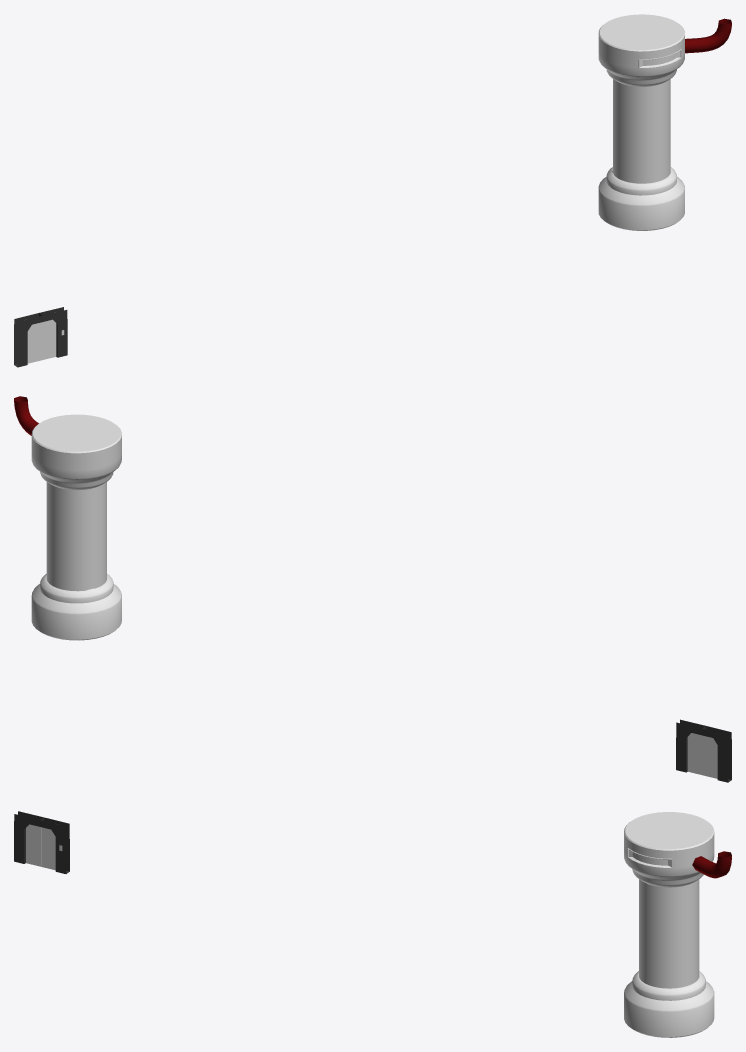
Rendered from Decoration2.fbx.
3 renders of one model, top to bottom at view 1: azimuth 30°, elevation 25°; view 2: azimuth 150°, elevation 25°; view 3: azimuth 330°, elevation 25°, orthographic. The views are drawn at different scales.
Visible parts, largest first — view 1: Cylinder.002, Cylinder.001, Cylinder, DoorFrame.001, NurbsPath.001, DoorFrame, Wall.012; view 2: Cylinder.002, Cylinder.001, Cylinder, DoorFrame.001, DoorFrame, Wall.012; view 3: Cylinder.002, Cylinder.001, Cylinder, DoorFrame, DoorFrame.001, NurbsPath.001, Wall.011, Wall.012.
Boxes of the visible parts, x1=… form: Cylinder.002: x1=613, y1=79, x2=670, y2=183; Cylinder.001: x1=598, y1=14, x2=684, y2=86; Cylinder: x1=598, y1=167, x2=684, y2=230; DoorFrame.001: x1=14, y1=313, x2=42, y2=367; NurbsPath.001: x1=685, y1=18, x2=731, y2=53; DoorFrame: x1=39, y1=307, x2=67, y2=357; Wall.012: x1=41, y1=319, x2=56, y2=360; Cylinder.002: x1=46, y1=482, x2=106, y2=591; Cylinder.001: x1=31, y1=414, x2=121, y2=490; Cylinder: x1=31, y1=574, x2=121, y2=640; DoorFrame.001: x1=702, y1=726, x2=731, y2=782; DoorFrame: x1=676, y1=719, x2=705, y2=772; Wall.012: x1=687, y1=733, x2=703, y2=775; Cylinder.002: x1=639, y1=879, x2=699, y2=988; Cylinder.001: x1=624, y1=812, x2=714, y2=887; Cylinder: x1=624, y1=971, x2=714, y2=1037; DoorFrame: x1=40, y1=817, x2=69, y2=873; DoorFrame.001: x1=14, y1=811, x2=43, y2=863; NurbsPath.001: x1=692, y1=851, x2=731, y2=878; Wall.011: x1=26, y1=824, x2=41, y2=866; Wall.012: x1=41, y1=827, x2=55, y2=870.
Size of the model in its own units: 5596 by 1419 by 607.
